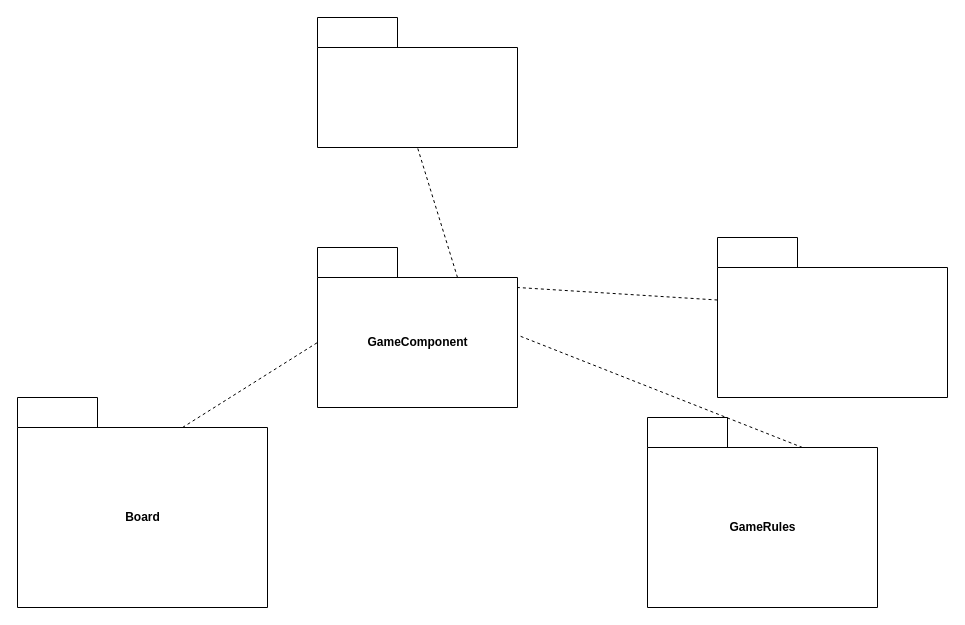
Some shapes in this 965 by 625 pixel diagram are drawn without their labels. Each missing label, with the box of its shape:
BoardGame: (316, 16, 518, 148)
GameStateServer: (716, 236, 948, 398)
